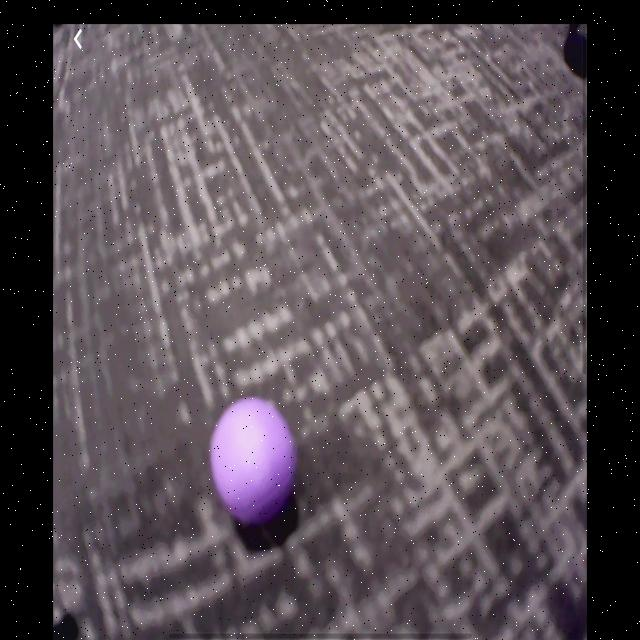ball: (210, 396, 299, 528)
